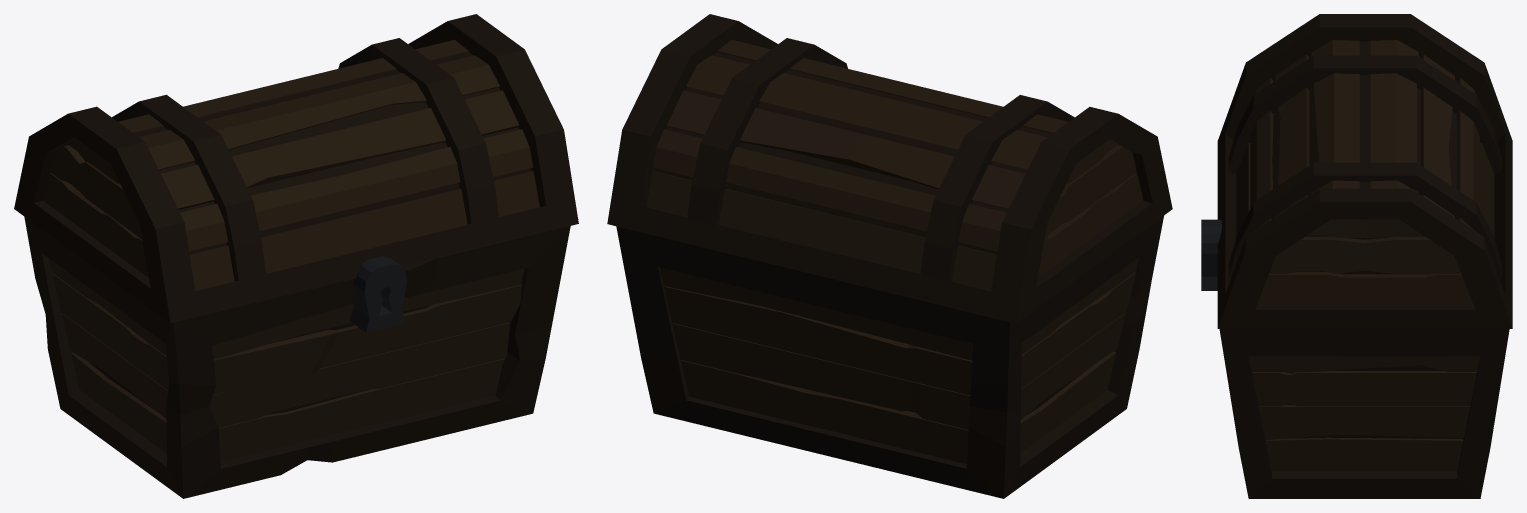
The model's file is chest.glb.
3 views of the same model, side by side, from view 1: azimuth 30°, elevation 25°; view 2: azimuth 150°, elevation 25°; view 3: azimuth 270°, elevation 25° (orthographic). The views are drawn at different scales.
Visible parts, largest first — view 1: Chest_Top_Cylinder.034, Chest_Base_Cube.009; view 2: Chest_Top_Cylinder.034, Chest_Base_Cube.009; view 3: Chest_Top_Cylinder.034, Chest_Base_Cube.009.
Boxes of the visible parts, x1,y1,x2,y2 form: Chest_Top_Cylinder.034: [14, 14, 578, 323]; Chest_Base_Cube.009: [24, 217, 570, 498]; Chest_Top_Cylinder.034: [607, 14, 1172, 323]; Chest_Base_Cube.009: [616, 216, 1163, 498]; Chest_Top_Cylinder.034: [1217, 14, 1512, 328]; Chest_Base_Cube.009: [1201, 219, 1509, 498].
Bounding box in the file's own units: 1.18 × 0.9093 × 0.8264.
